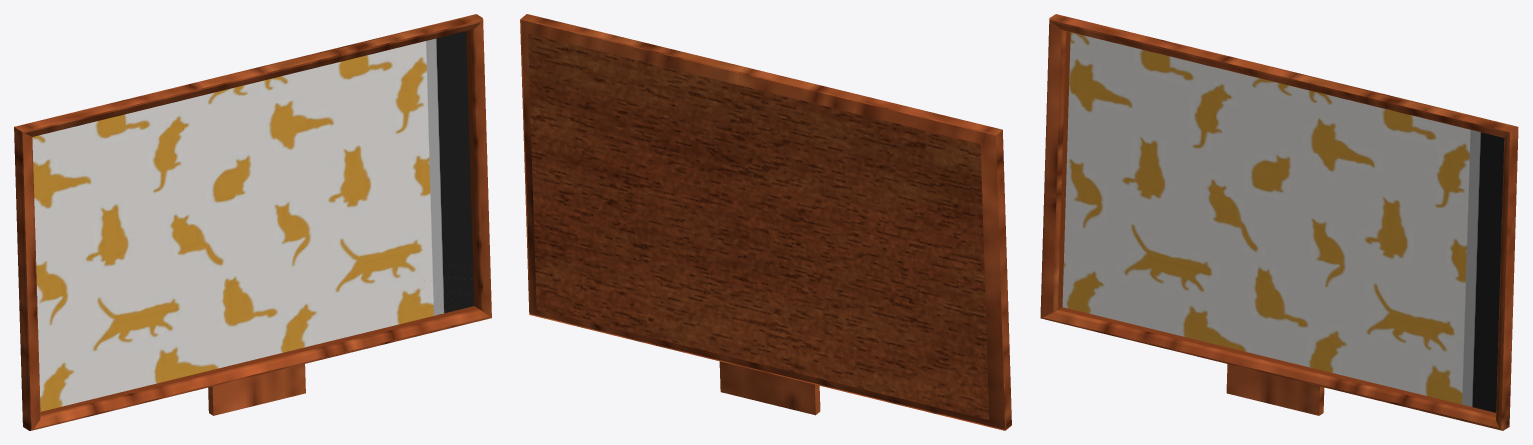
The model's file is Monitor.fbx.
3 views of the same model, side by side, from view 1: azimuth 30°, elevation 25°; view 2: azimuth 150°, elevation 25°; view 3: azimuth 330°, elevation 25° (orthographic). The views are drawn at different scales.
Visible parts, largest first — view 1: Monitor; view 2: Monitor; view 3: Monitor.
Part boxes in pixels (box(x1,y1,x2,y2)): Monitor: box(14, 14, 491, 430); Monitor: box(520, 14, 1011, 430); Monitor: box(1040, 14, 1518, 430).
Size of the model in its own units: 175 by 118 by 11.82.
